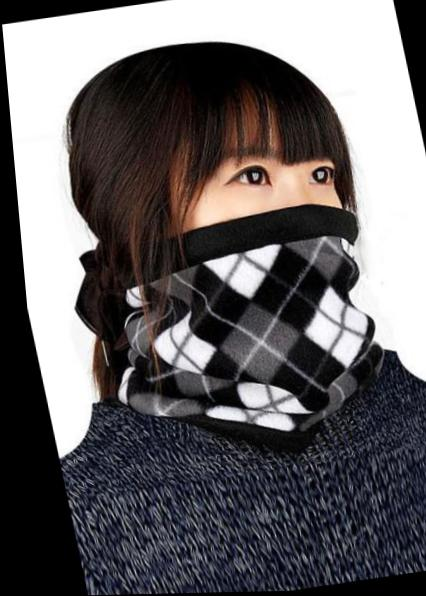OK: (180, 116, 370, 341)
